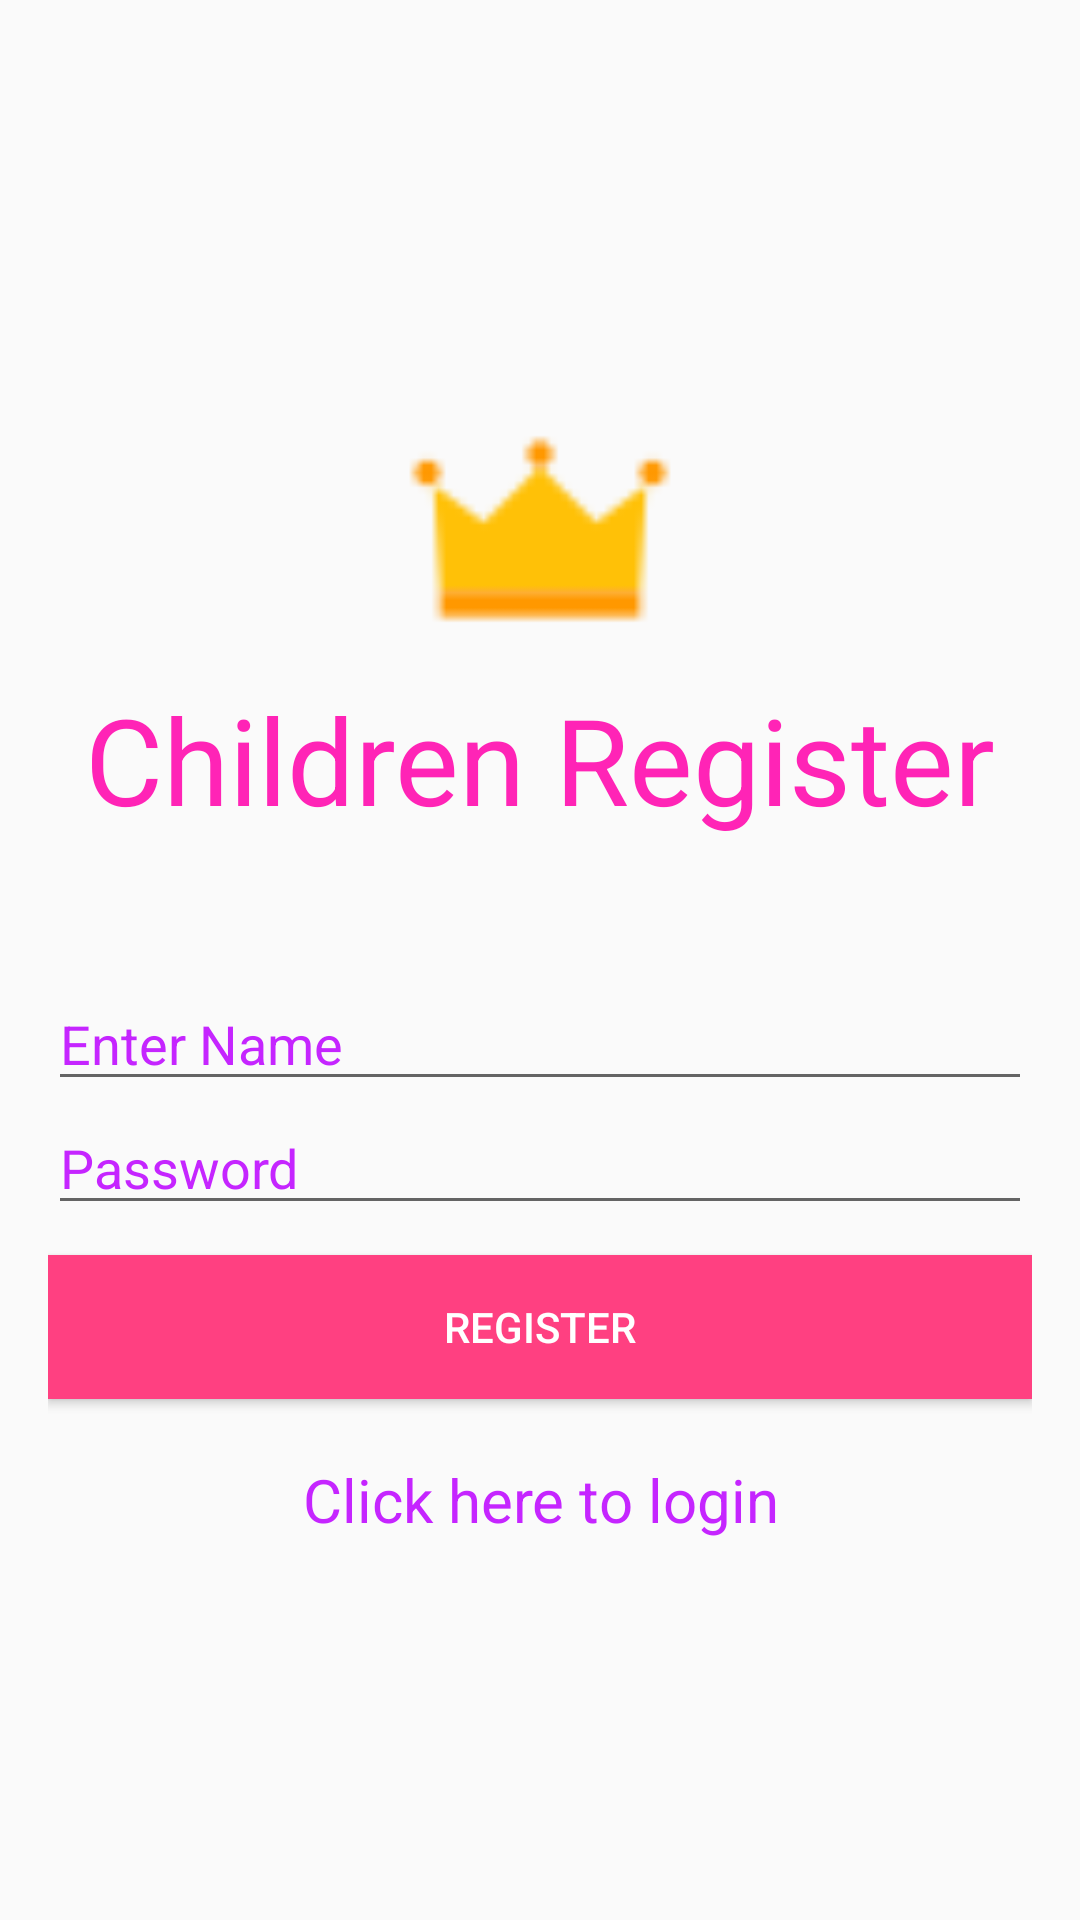

Point at icon controls on the screen. Image size 1080×1920, points as (x=x, y=y).
crown: (x=540, y=529)
